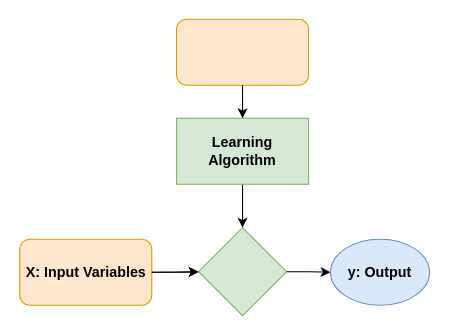
The diagram is 449 pixels wide and 336 high, and some of its shapes have lost their labels. Each missing label, with the box of its shape:
h(x,w): (197, 227, 287, 316)
Training Set: (175, 18, 309, 85)
